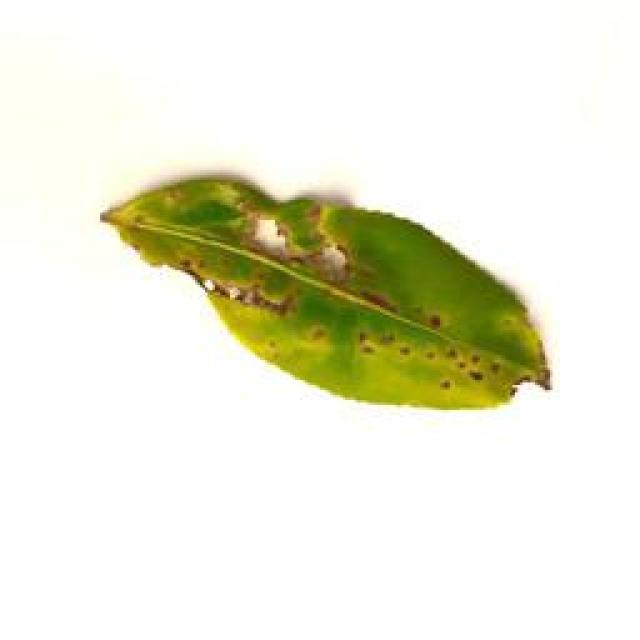Helopeltis: (104, 165, 558, 420)
